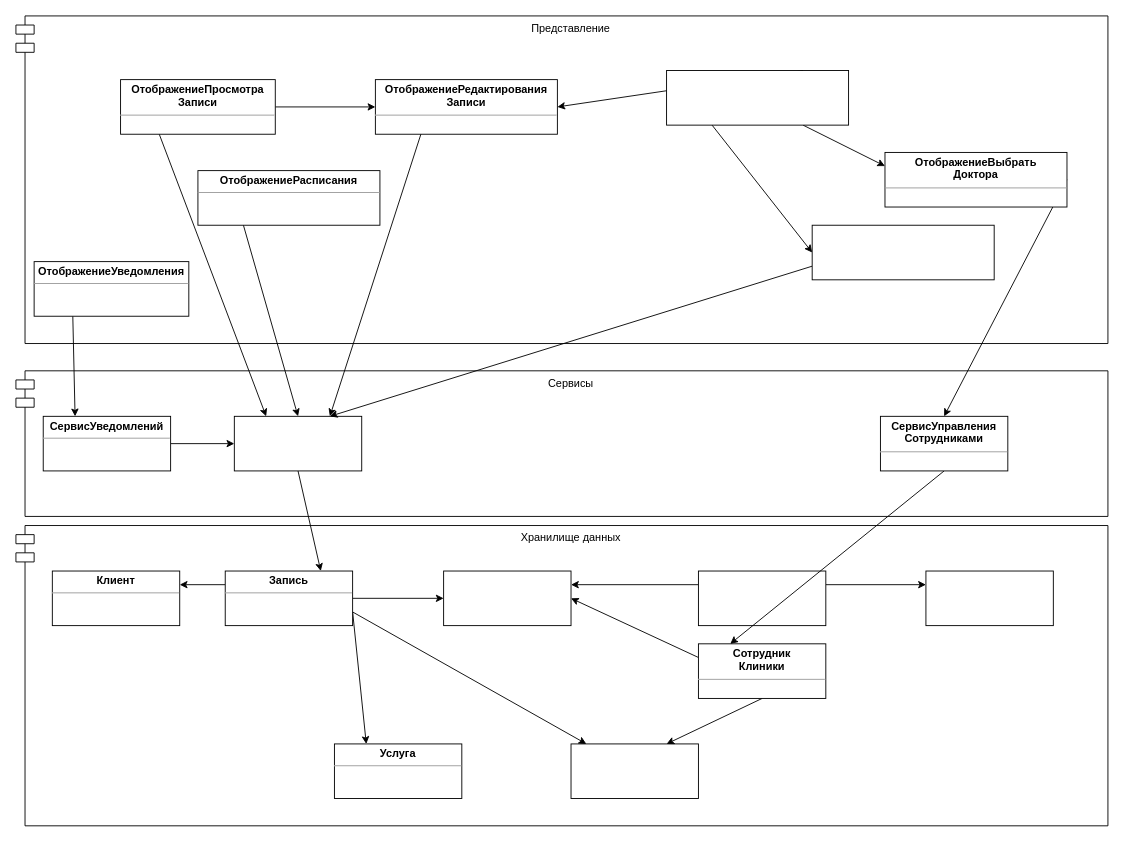
Image size: 1124x842. Some labels were removed from this diagram. The shapes that lost their labels are listed below. From the top down, each one's centre as x and y in pixels, then its label:
point (757, 97): ОтображениеЗаписаться НаПрием
point (902, 252): ОтображениеВыбрать Время
point (297, 443): СервисЗаписи
point (507, 598): Доктор
point (762, 598): Специализация Докора
point (989, 598): Специализация
point (634, 771): Клиника
